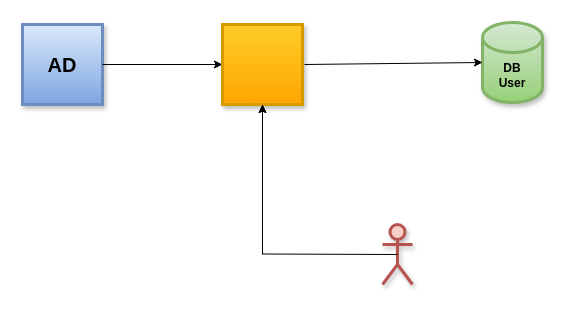
The diagram is 567 pixels wide and 334 high, and some of its shapes have lost their labels. The centre of each missing label's shape, as x and y in pixels:
API: point (263, 65)
Users: point (398, 255)
